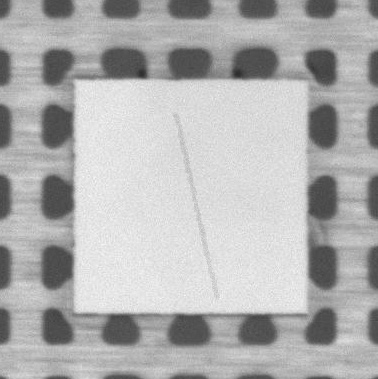DIE_CRACK: (176, 114, 216, 299)
